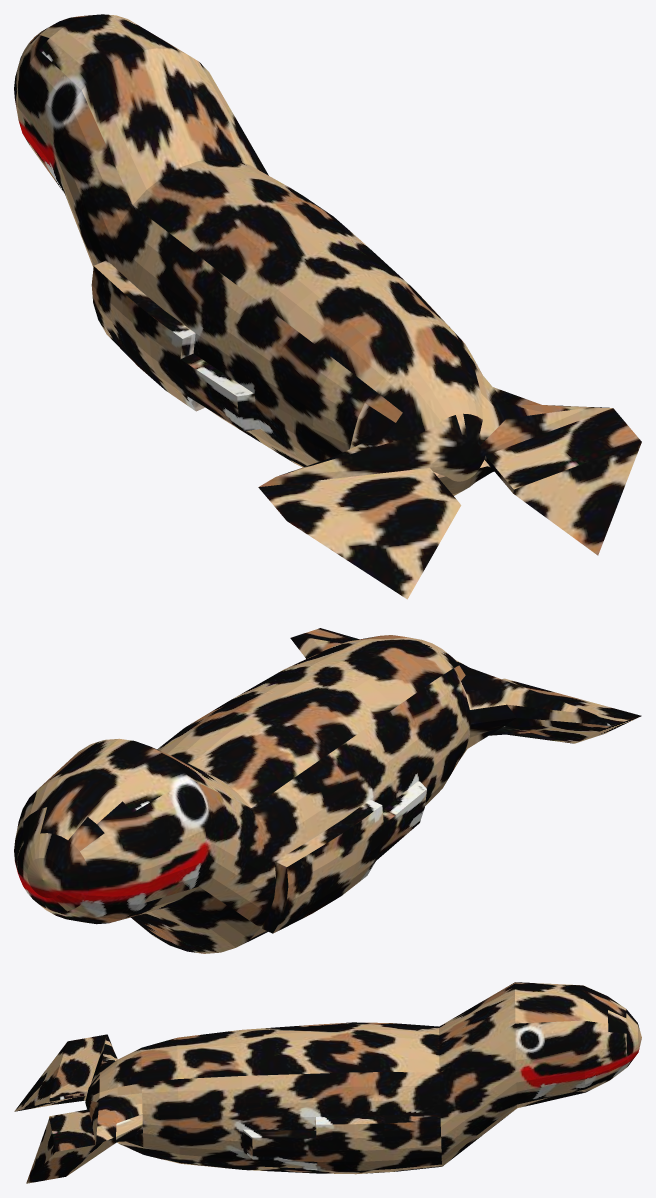
The model's file is leopardseal.fbx.
The picture shows the model from 3 angles, top to bottom: view 1: azimuth 30°, elevation 25°; view 2: azimuth 150°, elevation 25°; view 3: azimuth 270°, elevation 25°; orthographic projection. The views are drawn at different scales.
Parts seen in each view (by area): view 1: Sphere; view 2: Sphere; view 3: Sphere.
Part boxes in pixels (x1,y1,x2,y2): Sphere: (14,14,641,599); Sphere: (14,628,641,953); Sphere: (14,982,641,1183).
Bounding box in the file's own units: 348 × 260 × 827.
